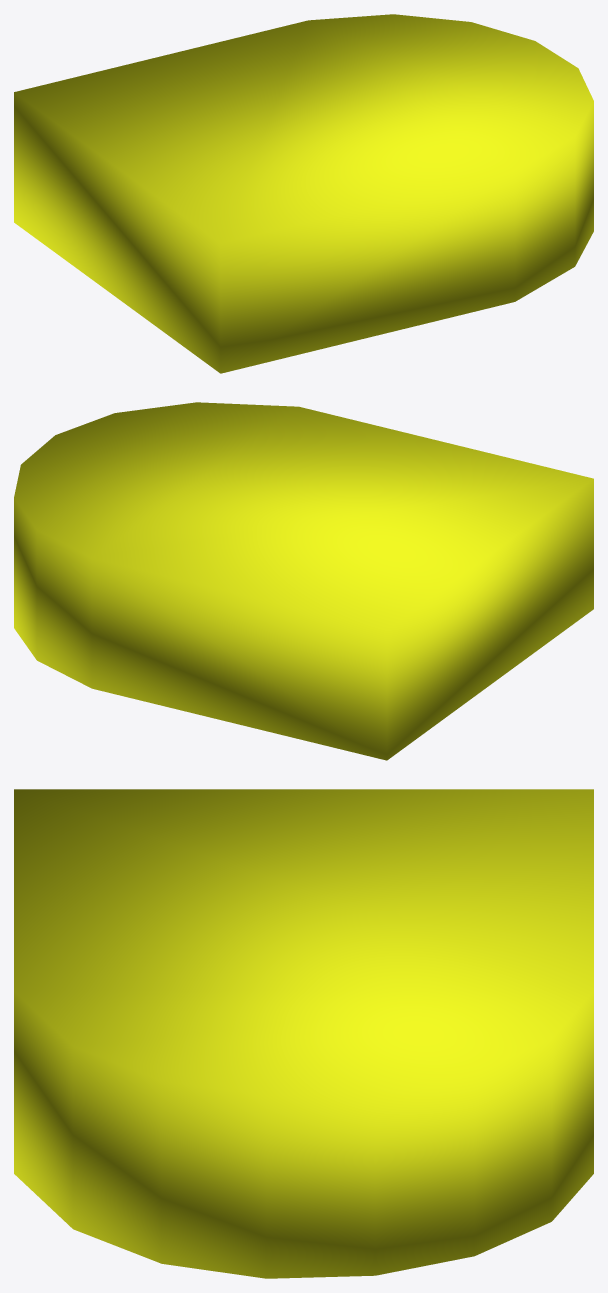
Rendered from base_robot.FBX.
3 renders of one model, top to bottom at view 1: azimuth 30°, elevation 25°; view 2: azimuth 150°, elevation 25°; view 3: azimuth 270°, elevation 25°, orthographic. The views are drawn at different scales.
Visible parts, largest first — view 1: base_robot; view 2: base_robot; view 3: base_robot.
Part boxes in pixels (x1,y1,x2,y2): base_robot: [14, 14, 593, 373]; base_robot: [14, 402, 593, 760]; base_robot: [14, 789, 593, 1278].
Bounding box in the file's own units: 519 × 144 × 415.
